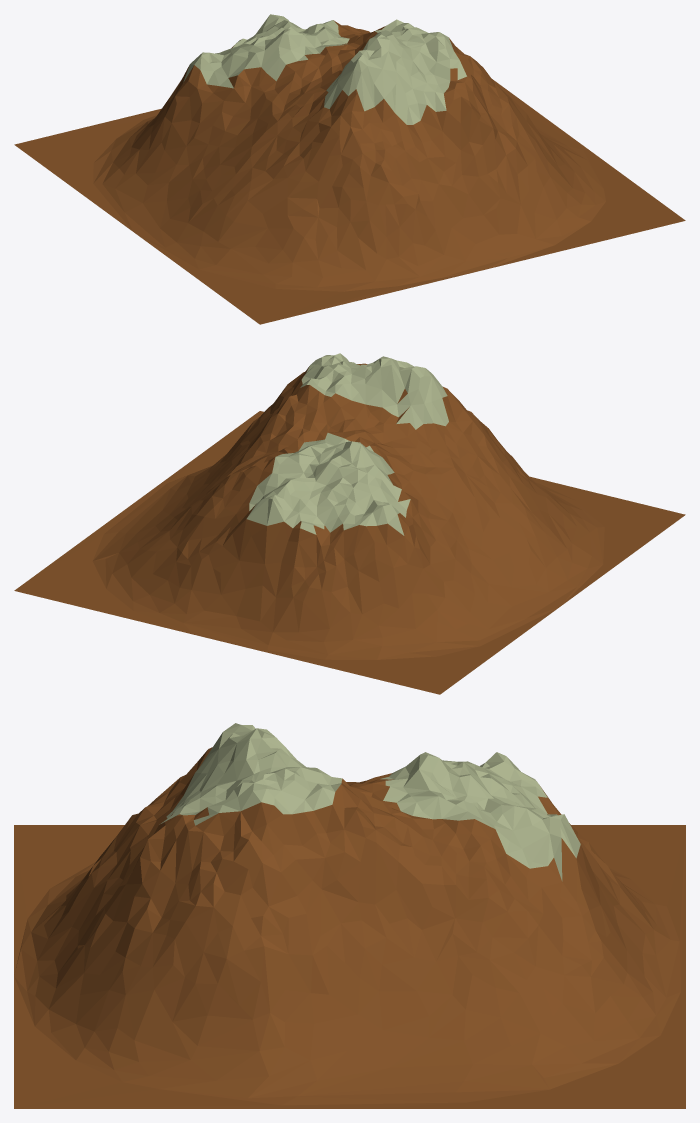
Rendered from Landscape.001.fbx.
3 views of the same model, one above another, from view 1: azimuth 30°, elevation 25°; view 2: azimuth 150°, elevation 25°; view 3: azimuth 270°, elevation 25° (orthographic). The views are drawn at different scales.
Parts seen in each view (by area): view 1: Landscape.001; view 2: Landscape.001; view 3: Landscape.001.
Boxes of the visible parts, x1,y1,x2,y2 form: Landscape.001: (14,14,685,324); Landscape.001: (14,353,685,694); Landscape.001: (14,723,685,1108).
Size of the model in its own units: 200 by 76.84 by 200.
